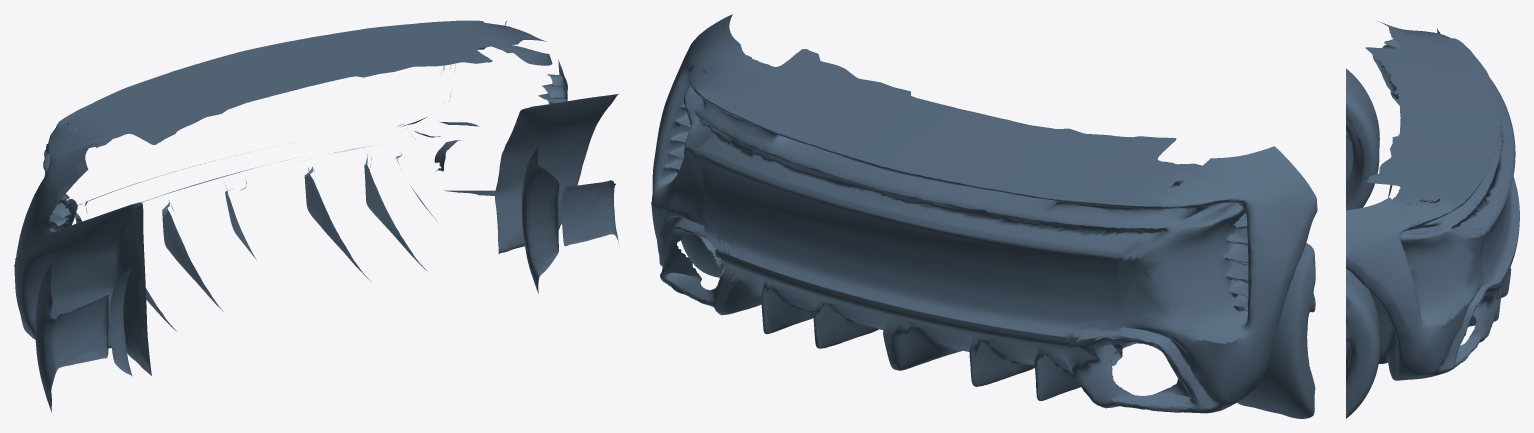
File: rear-c-meshy-donor.glb
The picture shows the model from 3 angles, left to right: view 1: azimuth 30°, elevation 25°; view 2: azimuth 150°, elevation 25°; view 3: azimuth 270°, elevation 25°; orthographic projection. The views are drawn at different scales.
Parts seen in each view (by area): view 1: Meshy C original rear extract; view 2: Meshy C original rear extract; view 3: Meshy C original rear extract.
Boxes of the visible parts, x1=… form: Meshy C original rear extract: x1=14, y1=20, x2=619, y2=412; Meshy C original rear extract: x1=651, y1=14, x2=1317, y2=418; Meshy C original rear extract: x1=1346, y1=21, x2=1519, y2=418.
Size of the model in its own units: 1.89 by 0.767 by 0.608.
